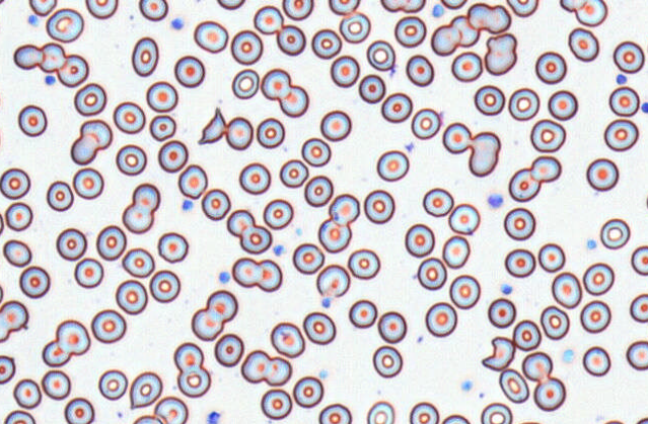PLT: (486, 192, 505, 211), (205, 408, 223, 424), (218, 268, 232, 286), (431, 3, 446, 18), (170, 16, 185, 30), (272, 244, 286, 259), (181, 199, 195, 214), (500, 282, 514, 296), (614, 73, 629, 86), (585, 237, 598, 250), (460, 379, 472, 393), (27, 15, 40, 27), (321, 296, 333, 309), (44, 74, 56, 86), (639, 100, 648, 115)
RBC: (467, 131, 500, 176), (484, 32, 517, 75), (467, 2, 511, 34), (45, 7, 84, 42), (55, 319, 90, 355), (270, 321, 305, 357), (0, 299, 29, 342), (90, 309, 126, 343), (129, 371, 162, 408), (316, 263, 350, 298), (530, 118, 565, 152), (230, 29, 263, 65), (603, 118, 639, 151), (55, 53, 89, 87), (533, 376, 566, 411), (318, 218, 351, 253), (193, 20, 228, 53), (425, 301, 457, 337), (551, 271, 582, 308), (302, 311, 336, 344), (73, 82, 106, 116), (586, 157, 619, 191), (508, 167, 540, 202), (115, 279, 147, 314), (363, 189, 395, 224), (131, 36, 159, 76), (112, 101, 145, 134), (579, 299, 611, 333), (498, 368, 529, 403), (449, 274, 480, 309), (568, 27, 599, 62), (177, 163, 207, 199), (96, 224, 126, 260), (191, 308, 223, 341), (238, 162, 271, 194), (55, 227, 87, 260), (503, 207, 535, 240), (376, 149, 409, 181), (582, 262, 614, 295), (612, 40, 644, 73), (535, 50, 566, 84), (260, 388, 292, 420), (338, 11, 370, 43), (292, 242, 324, 274), (115, 143, 147, 175), (146, 80, 178, 112), (394, 15, 426, 47), (177, 366, 210, 397), (206, 289, 237, 322), (121, 247, 154, 278), (149, 269, 180, 302), (292, 375, 323, 408), (157, 139, 188, 172), (19, 265, 50, 298), (347, 248, 380, 279), (508, 87, 539, 120), (174, 55, 205, 88), (240, 349, 270, 383), (214, 333, 244, 367), (404, 223, 434, 257), (540, 305, 569, 340), (521, 351, 553, 382), (430, 24, 461, 56), (260, 68, 291, 100), (328, 193, 359, 225), (157, 231, 188, 263), (448, 203, 480, 234), (72, 167, 103, 199), (410, 107, 441, 139), (473, 84, 505, 115), (320, 109, 351, 141), (239, 224, 272, 254), (449, 14, 479, 47), (278, 84, 308, 117), (417, 257, 447, 290), (377, 310, 407, 343), (372, 345, 402, 378), (224, 116, 253, 150), (451, 51, 482, 82), (262, 198, 293, 229), (311, 28, 342, 59), (547, 89, 578, 120), (599, 218, 630, 249), (17, 104, 47, 136), (380, 92, 412, 122), (0, 167, 30, 199), (70, 132, 99, 165), (304, 174, 333, 207), (330, 54, 359, 87), (154, 395, 188, 423), (173, 342, 204, 372), (122, 203, 153, 233), (41, 369, 71, 400), (276, 24, 306, 55), (422, 187, 453, 217), (608, 86, 639, 116), (442, 121, 471, 153), (201, 188, 230, 220), (512, 319, 541, 351), (405, 54, 434, 86), (366, 39, 395, 71), (442, 235, 470, 268), (231, 257, 261, 287), (301, 137, 331, 167), (98, 369, 127, 400), (74, 257, 103, 288), (256, 117, 285, 148), (504, 248, 535, 277), (487, 297, 516, 328), (582, 345, 611, 376), (263, 356, 292, 386), (253, 5, 283, 34), (279, 158, 308, 188), (13, 378, 41, 409), (231, 68, 259, 99), (256, 259, 282, 292), (574, 0, 607, 26), (226, 208, 255, 237), (2, 238, 31, 267), (348, 299, 377, 328), (132, 182, 160, 212), (38, 42, 66, 72), (537, 242, 565, 272), (4, 201, 32, 231), (530, 155, 561, 182), (46, 180, 73, 211), (41, 340, 71, 367), (358, 73, 385, 103), (64, 397, 94, 423), (13, 43, 42, 69), (149, 114, 176, 141), (318, 403, 352, 423), (480, 402, 512, 423), (409, 401, 439, 423), (366, 400, 394, 423), (626, 340, 647, 370), (138, 0, 168, 21), (85, 0, 118, 19), (282, 0, 313, 20), (380, 0, 425, 13), (506, 0, 538, 17), (629, 293, 647, 323), (630, 245, 647, 275), (328, 0, 360, 15), (28, 0, 57, 16), (0, 354, 15, 384), (3, 409, 35, 423), (559, 0, 586, 12), (441, 413, 470, 423), (132, 414, 164, 423), (217, 0, 245, 10), (440, 0, 467, 9), (0, 125, 4, 154), (515, 420, 543, 424), (0, 212, 4, 235), (0, 83, 3, 112), (603, 419, 624, 423), (0, 283, 4, 303), (636, 417, 647, 423)
Schistocyte: (196, 105, 229, 146), (481, 336, 515, 373), (80, 120, 112, 151)
